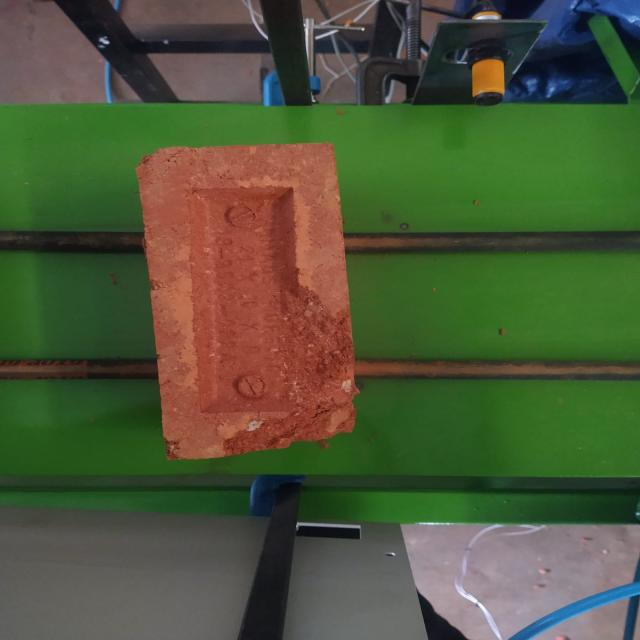bricks_ruin: (136, 138, 355, 461)
